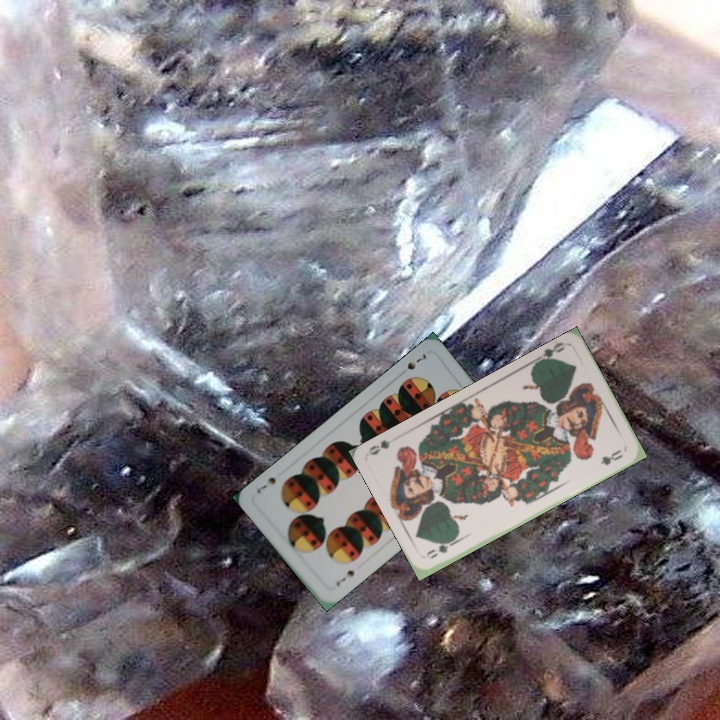GO: (530, 338, 568, 366), (426, 534, 461, 561)
S7: (403, 349, 429, 373), (332, 566, 357, 589)
